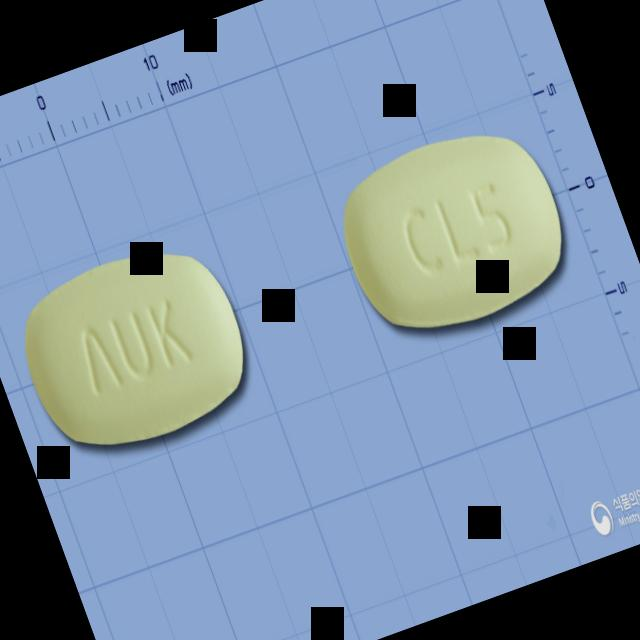Auscle: (1, 222, 272, 482)
